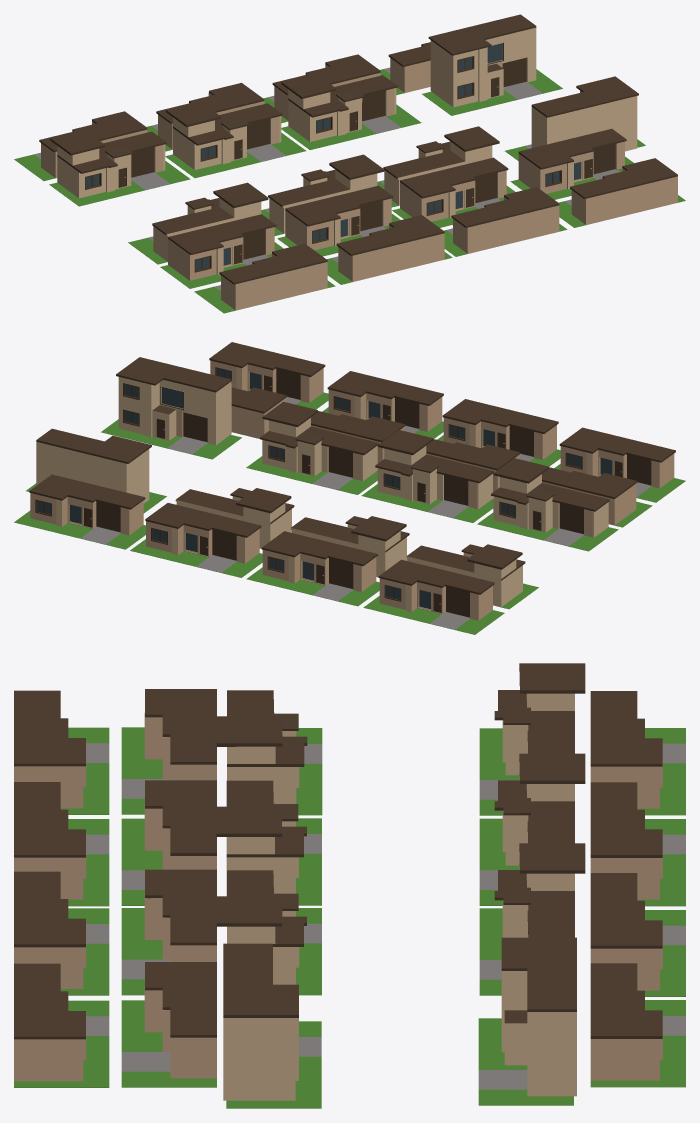
File: homes-ref.glb
3 views of the same model, one above another, from view 1: azimuth 30°, elevation 25°; view 2: azimuth 150°, elevation 25°; view 3: azimuth 270°, elevation 25° (orthographic). The views are drawn at different scales.
Parts seen in each view (by area): view 1: house-small-2-roof (×12), house-small-2-back-wall (×12), house-small-1-top-roof (×6), house-medium-1-back-wall (×2), house-small-1-ground (×3), house-medium-1-roof (×2), house-small-2-ground (×6), house-wall-2-window (×4), house-small-2-garage (×4), GN Instance, house-small-1-left-wall (×3), house-small-1-front-window (×3) (+9 smaller); view 2: house-small-2-roof (×12), house-small-1-top-roof (×6), house-small-2-ground (×5), house-medium-1-back-wall (×2), house-small-2-garage (×8), house-small-2-door-wall (×8), house-small-1-ground (×3), house-wall-2-window (×7), house-medium-1-roof (×2), house-small-1-door-wall (×3), GN Instance (×2), house-small-1-garage (×3) (+11 smaller); view 3: house-small-2-roof (×12), house-small-2-ground (×12), house-small-1-top-roof (×6), house-small-2-back-wall (×11), house-small-1-ground (×6), house-medium-1-back-wall (×2), house-medium-1-roof (×2), house-medium-1-ground (×2), house-small-1-door-wall (×3), house-small-1-left-wall (×3), house-small-2-relief-1 (×4), GN Instance (+2 smaller).
Part boxes in pixels (<box>): house-small-2-roof (×12): <box>39,42,677,284</box>; house-small-2-back-wall (×12): <box>41,58,677,310</box>; house-small-1-top-roof (×6): <box>52,73,499,235</box>; house-medium-1-back-wall (×2): <box>430,27,637,151</box>; house-small-1-ground (×3): <box>49,104,421,206</box>; house-medium-1-roof (×2): <box>428,14,638,117</box>; house-small-2-ground (×6): <box>14,152,633,313</box>; house-wall-2-window (×4): <box>190,163,566,280</box>; house-small-2-garage (×4): <box>243,144,615,259</box>; GN Instance: <box>50,130,166,173</box>; house-small-1-left-wall (×3): <box>57,100,311,198</box>; house-small-1-front-window (×3): <box>80,111,336,197</box>; house-small-2-roof (×12): <box>29,342,675,594</box>; house-small-1-top-roof (×6): <box>175,401,609,580</box>; house-small-2-ground (×5): <box>14,464,685,634</box>; house-medium-1-back-wall (×2): <box>36,381,231,503</box>; house-small-2-garage (×8): <box>96,369,651,617</box>; house-small-2-door-wall (×8): <box>67,364,626,614</box>; house-small-1-ground (×3): <box>246,456,618,551</box>; house-wall-2-window (×7): <box>30,389,586,609</box>; house-medium-1-roof (×2): <box>36,357,231,463</box>; house-small-1-door-wall (×3): <box>295,432,554,532</box>; GN Instance (×2): <box>379,545,525,609</box>; house-small-1-garage (×3): <box>328,447,583,534</box>; house-small-2-roof (×12): <box>14,689,662,1039</box>; house-small-2-ground (×12): <box>14,727,685,1087</box>; house-small-1-top-roof (×6): <box>216,663,585,946</box>; house-small-2-back-wall (×11): <box>14,764,659,1081</box>; house-small-1-ground (×6): <box>296,728,519,995</box>; house-medium-1-back-wall (×2): <box>223,1012,576,1100</box>; house-medium-1-roof (×2): <box>223,937,576,1017</box>; house-medium-1-ground (×2): <box>226,1018,573,1108</box>; house-small-1-door-wall (×3): <box>503,707,530,937</box>; house-small-1-left-wall (×3): <box>226,767,296,984</box>; house-small-2-relief-1 (×4): <box>144,713,169,1032</box>; GN Instance: <box>494,663,584,753</box>.
Bounding box in the file's own units: 58.09 × 6.21 × 43.3.
